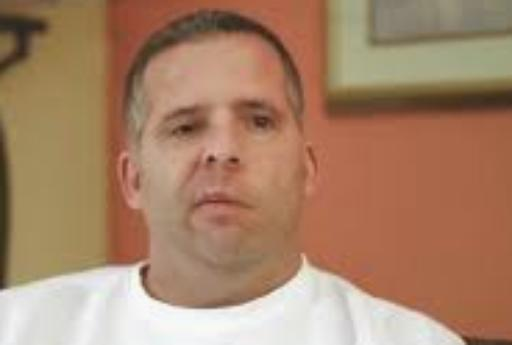left_eye: (240, 113, 282, 134)
left_lip_corner: (242, 198, 272, 216)
right_eye: (166, 120, 204, 138)
right_lip_corner: (188, 199, 205, 215)
